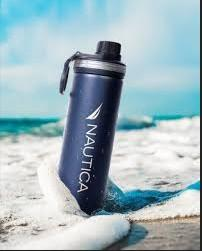bottle: (49, 32, 137, 226)
